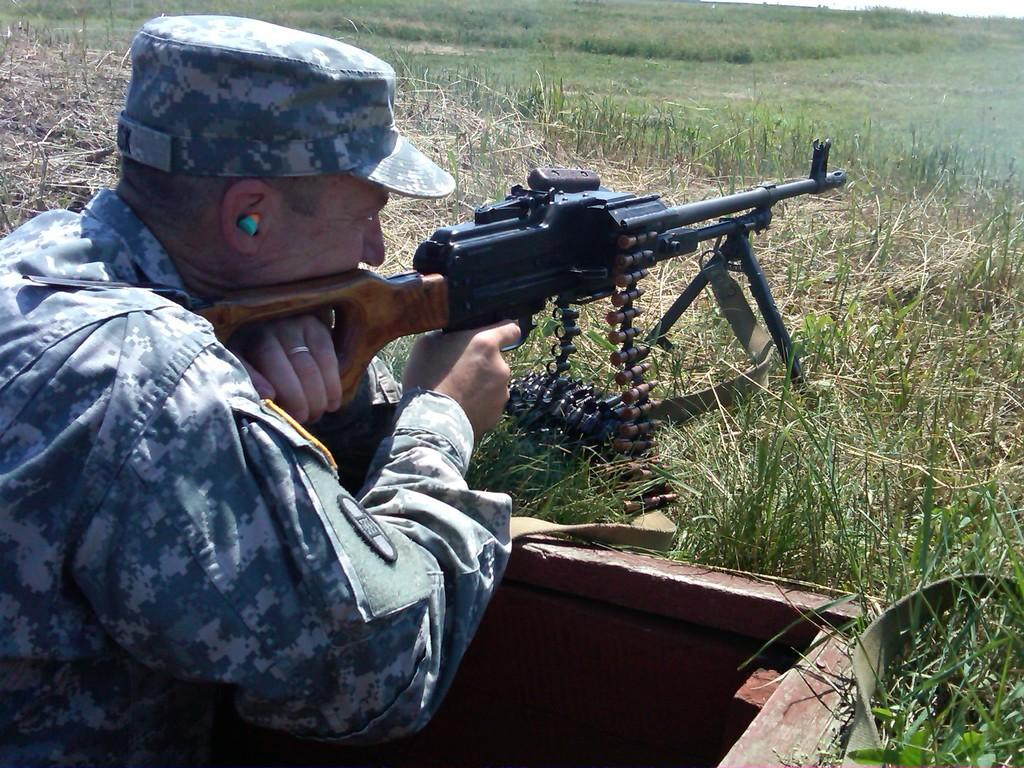Rifle: (192, 170, 844, 381)
